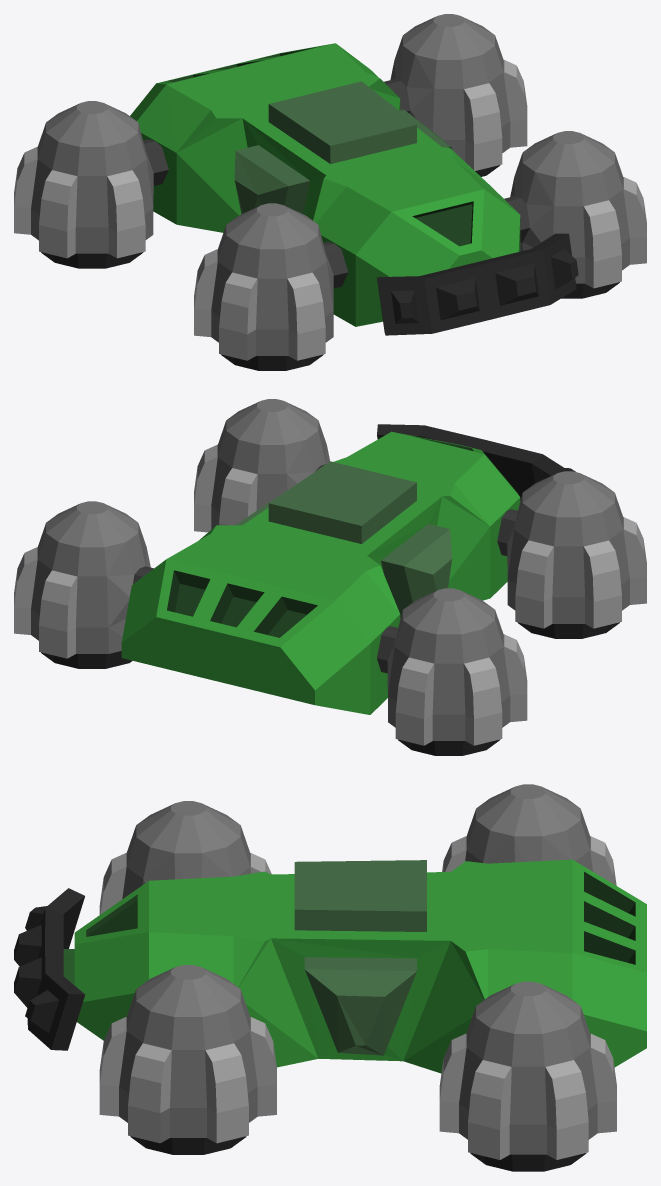
The model's file is fly_base.fbx.
3 views of the same model, one above another, from view 1: azimuth 30°, elevation 25°; view 2: azimuth 150°, elevation 25°; view 3: azimuth 270°, elevation 25° (orthographic). The views are drawn at different scales.
Visible parts, largest first — view 1: Cube.060, Cylinder.073, Cylinder.072, Plane.006; view 2: Cube.060, Cylinder.072, Cylinder.073, Plane.006; view 3: Cube.060, Cylinder.073, Cylinder.072, Plane.006.
Boxes of the visible parts, bbox=[...] form: Cube.060: bbox=[130, 43, 520, 326]; Cylinder.073: bbox=[194, 131, 646, 370]; Cylinder.072: bbox=[14, 14, 527, 268]; Plane.006: bbox=[377, 233, 578, 335]; Cube.060: bbox=[121, 431, 520, 714]; Cylinder.072: bbox=[14, 501, 527, 755]; Cylinder.073: bbox=[194, 399, 646, 638]; Plane.006: bbox=[377, 424, 575, 500]; Cube.060: bbox=[63, 859, 646, 1073]; Cylinder.073: bbox=[99, 801, 276, 1154]; Cylinder.072: bbox=[439, 784, 616, 1171]; Plane.006: bbox=[14, 888, 85, 1050].
Bounding box in the file's own units: 232 × 65.18 × 230.
